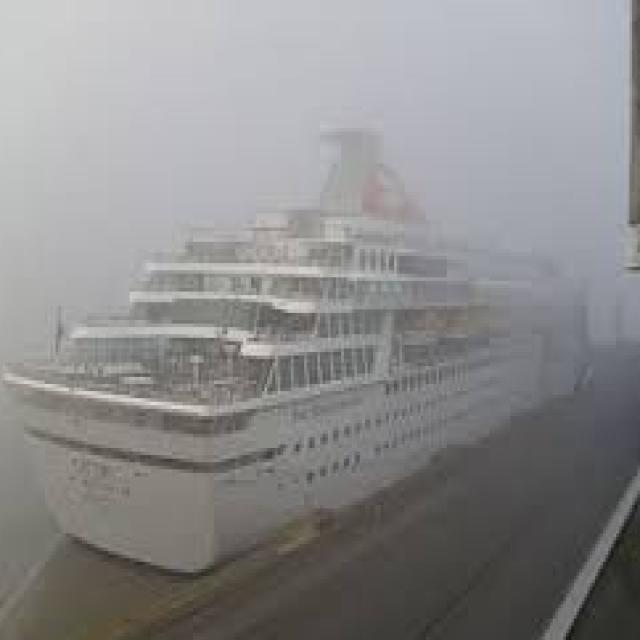passenger ship: (5, 121, 586, 557)
